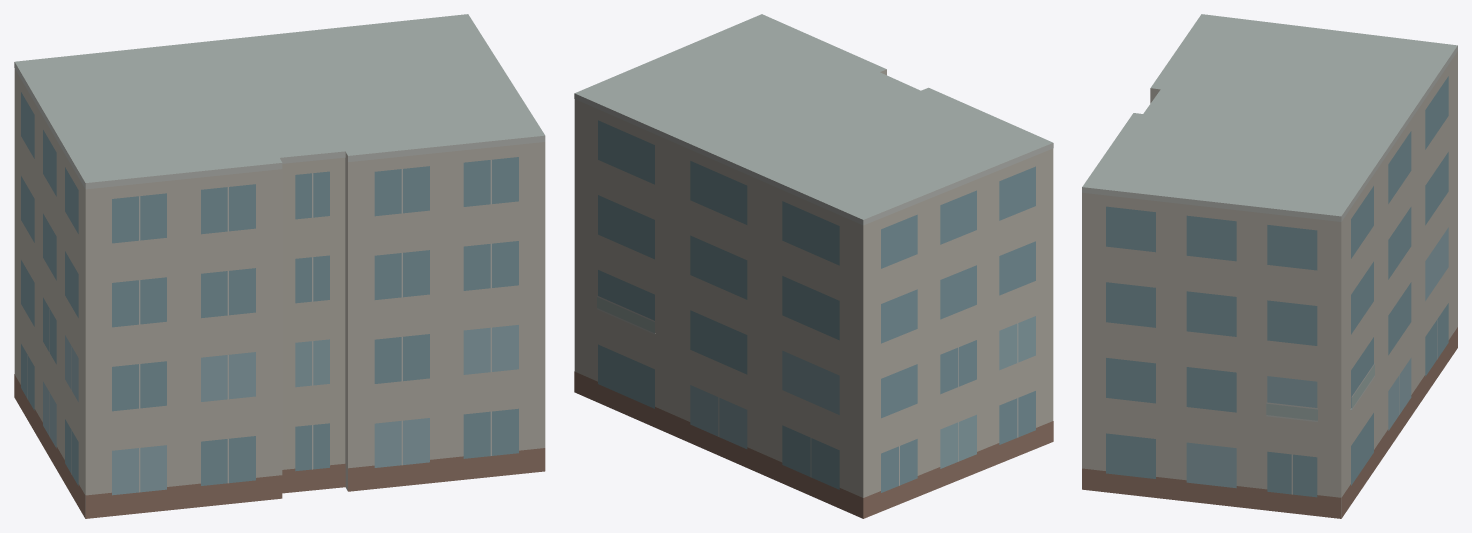
File: survey-upis-32698960.glb
The picture shows the model from 3 angles, left to right: view 1: azimuth 30°, elevation 25°; view 2: azimuth 150°, elevation 25°; view 3: azimuth 270°, elevation 25°; orthographic projection. The views are drawn at different scales.
Visible parts, largest first — view 1: survey-upis-32698960.tmp; view 2: survey-upis-32698960.tmp; view 3: survey-upis-32698960.tmp.
Boxes of the visible parts, box(x1,y1,x2,y2) form: survey-upis-32698960.tmp: box(14, 14, 545, 518); survey-upis-32698960.tmp: box(574, 14, 1053, 518); survey-upis-32698960.tmp: box(1082, 14, 1457, 518).
Size of the model in its own units: 18.88 by 13.15 by 14.81.
